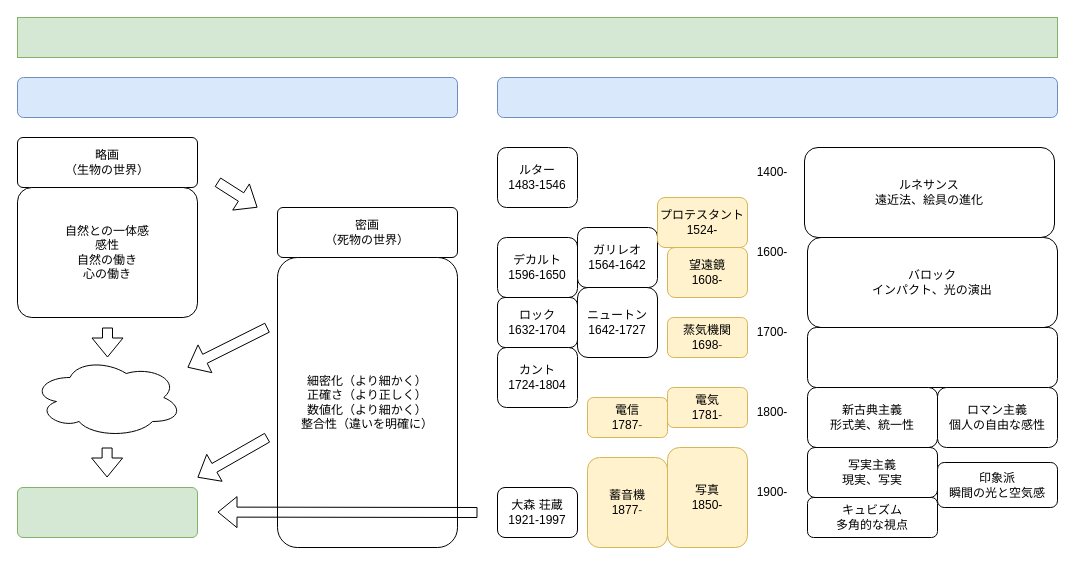
Some shapes in this 1075 by 565 pixel diagram are drawn without their labels. Here are the shapes that lost their labels. From the top down, the centre of each, then its label:
At [537,37]: "知の構築とその呪縛".
At [237,97]: "略画と密画".
At [777,97]: "哲学史、技術史、美術史".
At [932,357]: "ロココ 官能的、装飾".
At [107,397]: "心と世界の分離".
At [107,512]: "密画と略画の重ね描き".
